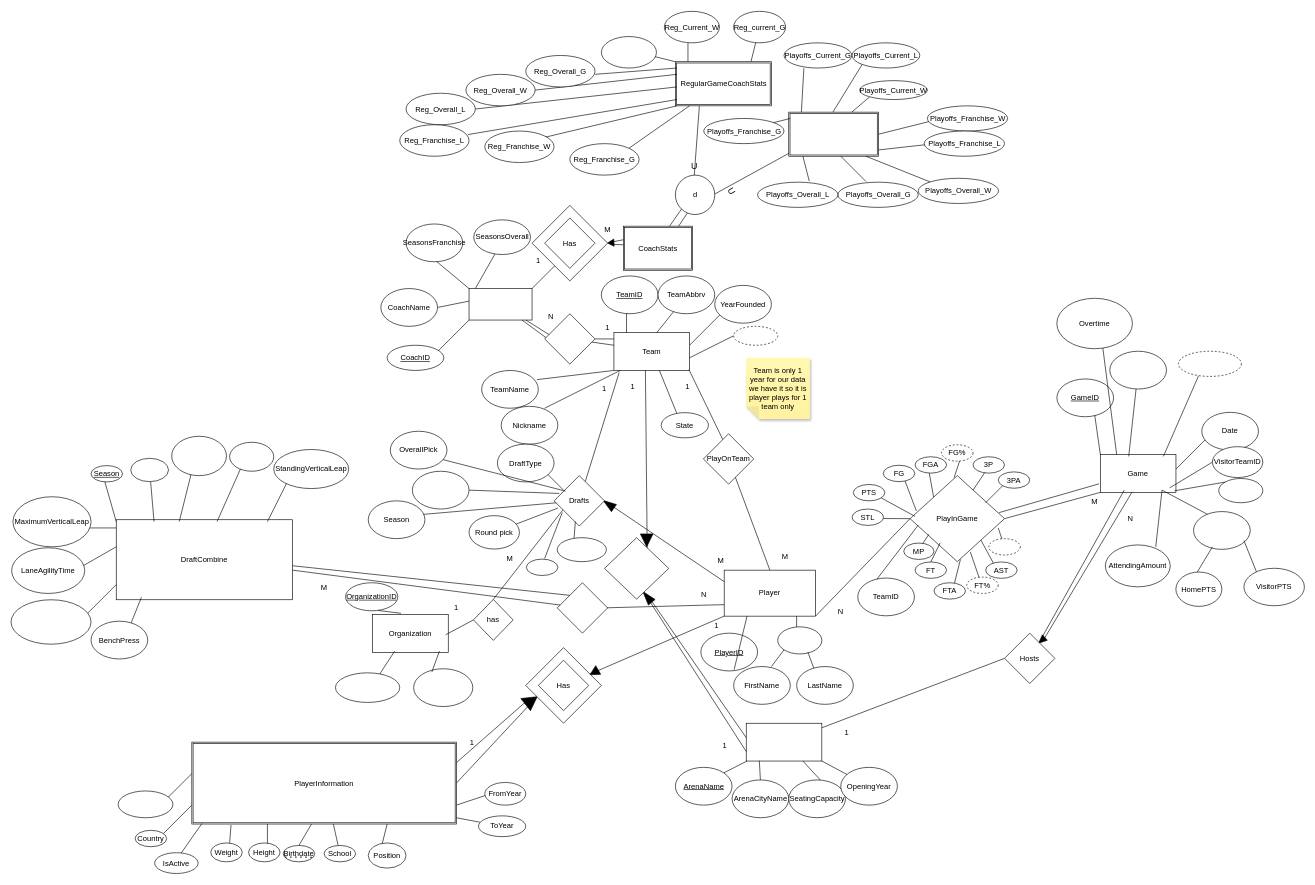
Image size: 1315x885. Some labels were removed from this diagram. Each missing label, with the centre of its shape:
3P%: (1004,546)
Arena: (784,742)
Attends: (582,607)
BodyFatPct: (251,456)
Coach: (500,304)
DraftID: (542,567)
Final score: (1221,530)
HasHomeArena: (636,568)
HomeTeamID: (1240,490)
Instructs: (569,338)
Length: (1138,370)
Name: (799,640)
Organization type: (581,549)
OrganizationName: (367,687)
OrganizationType: (443,687)
PlayoffGameCoachStats: (833,134)
Reg_Current_L: (628,52)
Result for home team: (1209,363)
RoundNumber: (440,490)
SeasonsPlayed: (145,804)
StandingReach: (198,456)
Team Age: (755,335)
ThreeQuarterSprint: (50,621)
Wingspan: (149,470)
